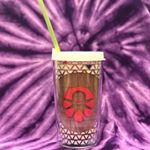cups: (49, 48, 104, 150)
